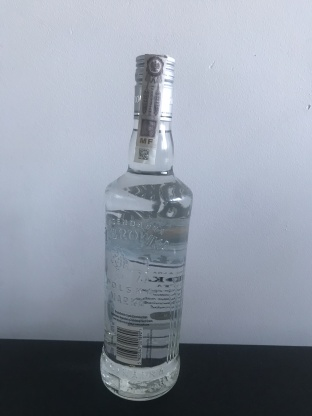nakretka: (131, 49, 178, 124)
